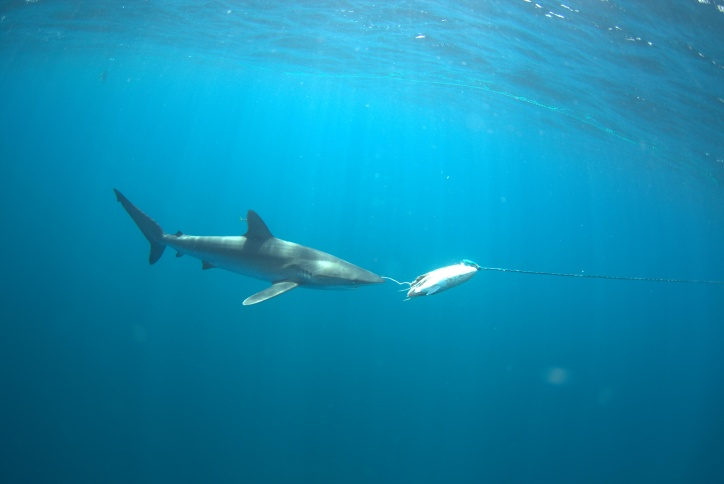Sedoso: (75, 187, 386, 310)
